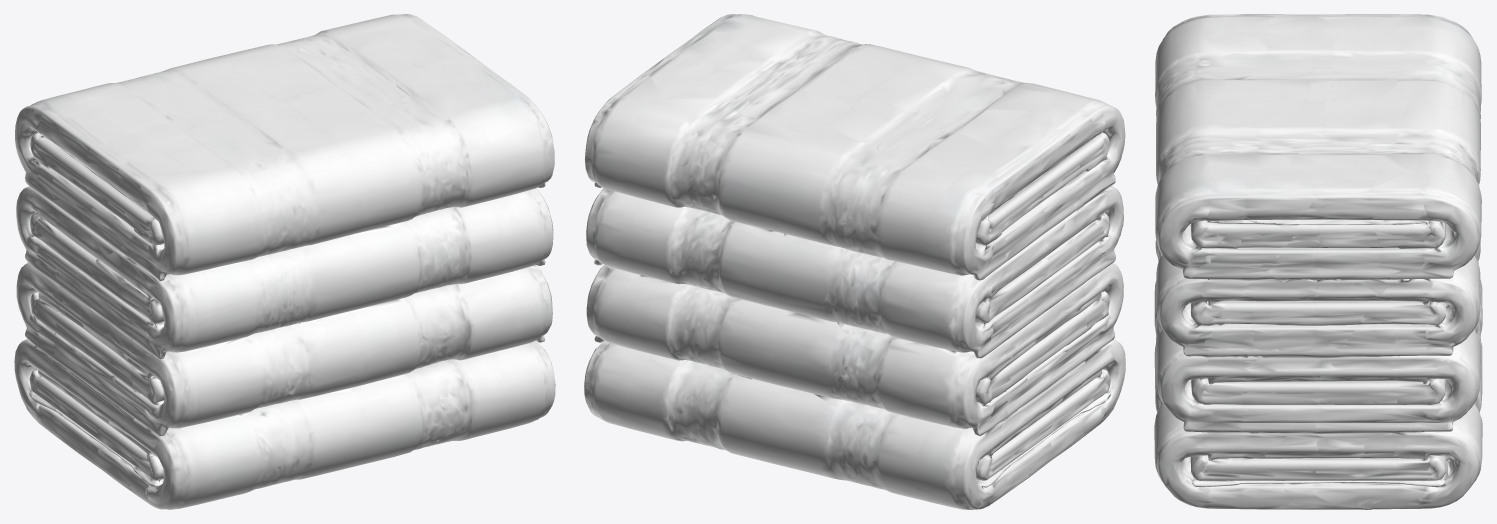
Rendered from Stacked Folded Towel.glb.
The picture shows the model from 3 angles, left to right: view 1: azimuth 30°, elevation 25°; view 2: azimuth 150°, elevation 25°; view 3: azimuth 270°, elevation 25°; orthographic projection.
Visible parts, largest first — view 1: Mesh_0.004; view 2: Mesh_0.004; view 3: Mesh_0.004.
Boxes of the visible parts, x1,y1,x2,y2 form: Mesh_0.004: [14, 14, 555, 509]; Mesh_0.004: [584, 14, 1125, 509]; Mesh_0.004: [1154, 14, 1482, 509].
Bounding box in the file's own units: 0.5532 × 0.44 × 0.4099.
1 material, 1 textured.
